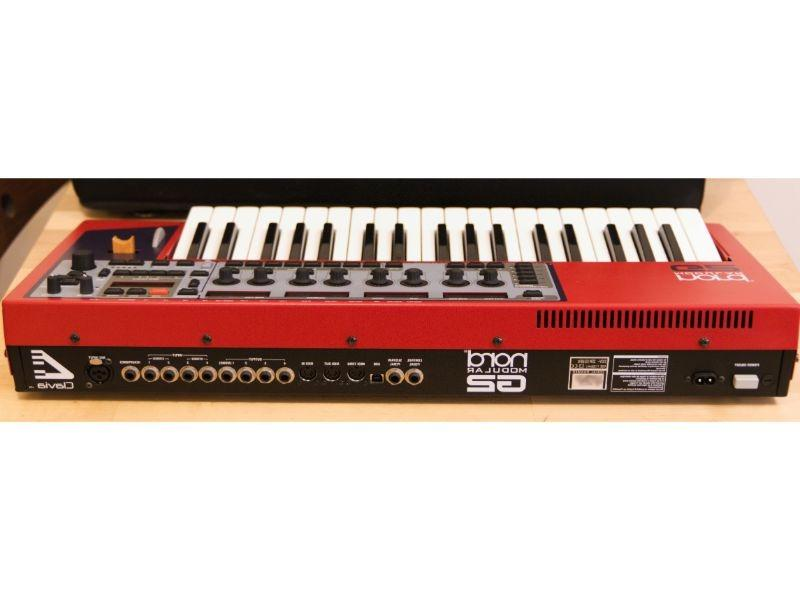synthesizer: (16, 197, 783, 402)
